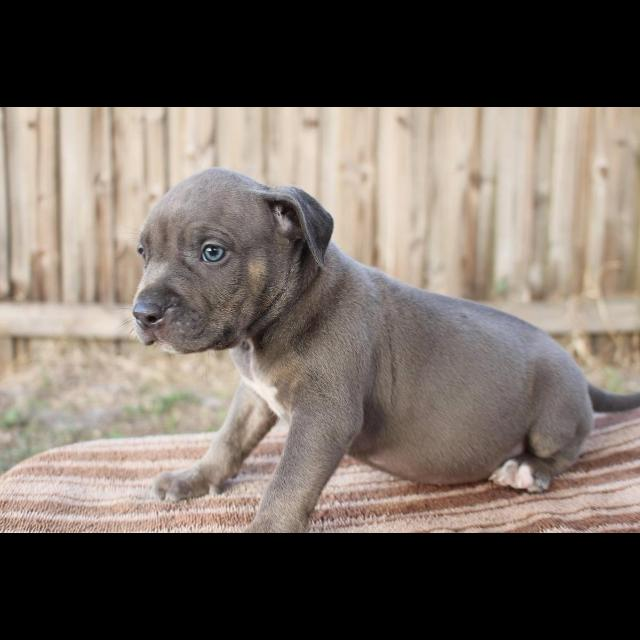am_pit_bull_terrier: (121, 167, 640, 533)
